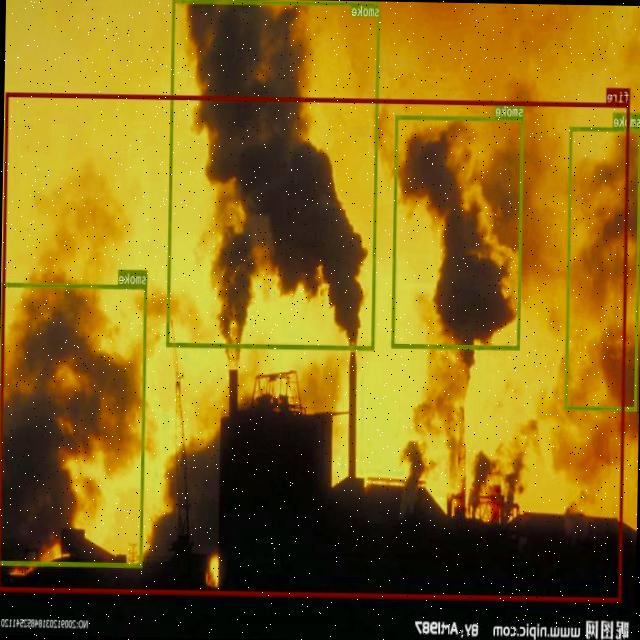fire: (0, 91, 630, 601)
smoke: (166, 0, 380, 349), (0, 281, 147, 566), (392, 114, 524, 348), (565, 125, 640, 410)
